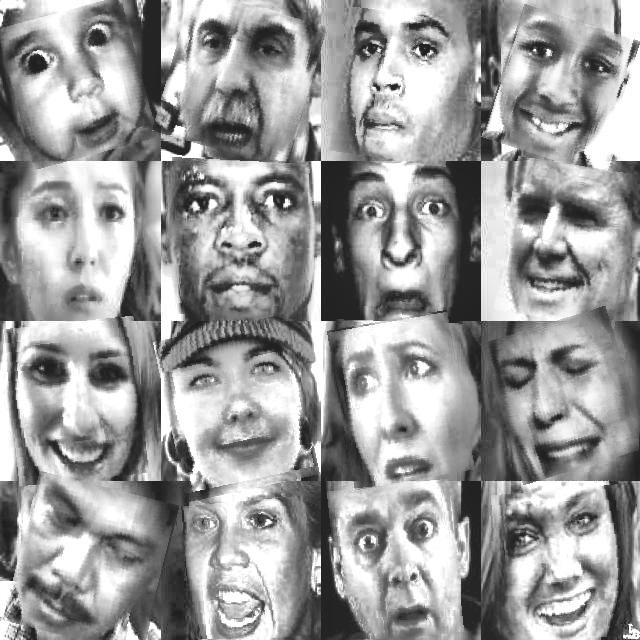angry: (161, 0, 318, 160), (184, 498, 308, 640)
fear: (5, 3, 149, 163), (334, 315, 468, 485), (331, 482, 460, 640), (8, 172, 144, 320), (339, 173, 467, 324)
happy: (161, 320, 313, 496), (490, 13, 639, 169), (7, 319, 146, 483), (500, 161, 632, 325), (491, 486, 630, 640)
neutral: (10, 478, 171, 640), (166, 157, 308, 319), (334, 10, 462, 164)
sad: (490, 314, 639, 478)
